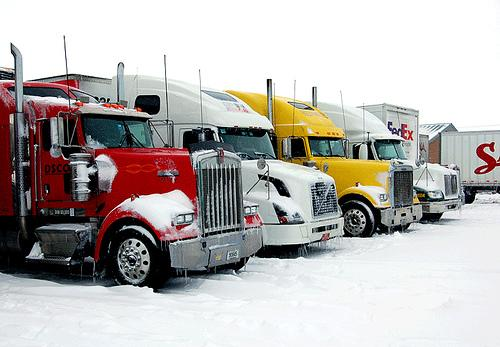truck: (1, 41, 264, 294), (12, 73, 344, 259), (217, 90, 422, 247), (338, 104, 464, 225)
